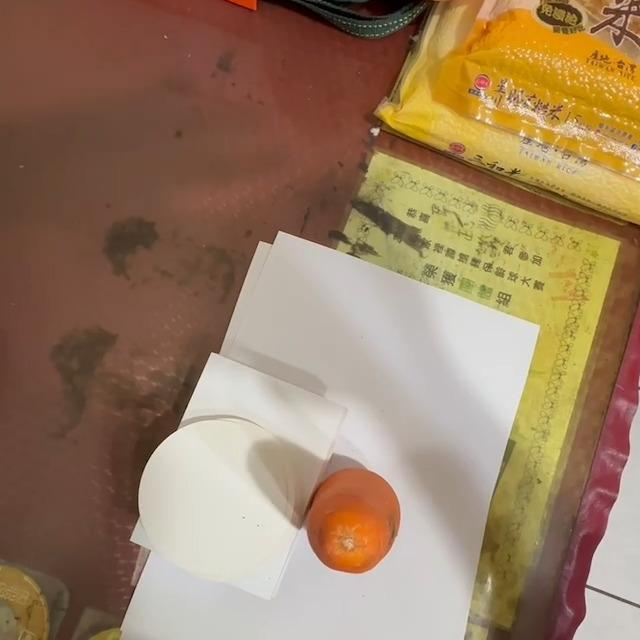carrot: (304, 467, 405, 576)
